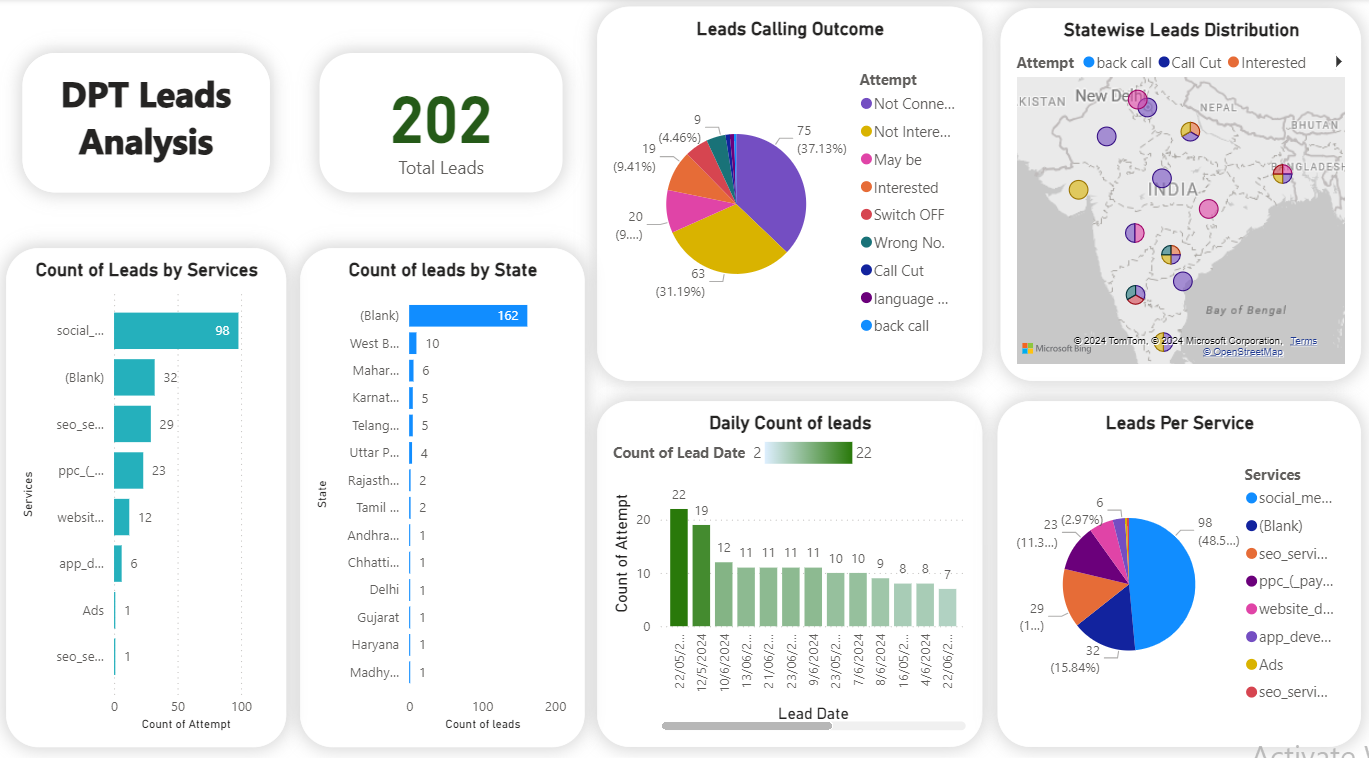

This screenshot's page, from the dashboard's own definition file:
{"tool":"powerbi","page":{"name":"Page 1","canvas":[1280,720],"ordinal":0},"visuals":[{"type":"pieChart","title":"Leads Calling Outcome","fields":{"Category":["Sheet1.Attempt"],"Y":["Sheet1.Count of Attempt average per Attempt"]},"box":[562,18,352,342],"z":0},{"type":"card","fields":{"Values":["CountNonNull(Sheet1.Name)"]},"box":[308,60.2,222,127.5],"z":1000},{"type":"clusteredColumnChart","title":"Daily Count of leads","fields":{"Category":["Sheet1.Lead Date"],"Y":["CountNonNull(Sheet1.Attempt)"]},"box":[562,378,352,316],"z":2000},{"type":"barChart","fields":{"Category":["Sheet1.State"],"Y":["CountNonNull(Sheet1.Attempt)"]},"box":[290,238,260,456],"z":3000},{"type":"textbox","box":[37.2,60.2,226.3,127.5],"z":4000},{"type":"clusteredBarChart","title":"Count of Leads by Services","fields":{"Category":["Sheet1.Services"],"Y":["CountNonNull(Sheet1.Attempt)"]},"box":[22,238,256,456],"z":5000},{"type":"map","title":"Statewise Leads Distribution","fields":{"Category":["Sheet1.State"],"Series":["Sheet1.Attempt"]},"box":[929.6,18.5,329.6,340.7],"z":6000},{"type":"pieChart","title":"Leads Per Service","fields":{"Category":["Sheet1.Services"],"Y":["CountNonNull(Sheet1.Attempt)"]},"box":[928,378,332,316],"z":7000}]}

Visuals, with their boxes in screenshot pixels (x1, y1, x2, y2), scaled from the page's 1280x720 canvas onto the 1369x758 screenshot:
"Leads Calling Outcome" pieChart: bbox=(601, 19, 978, 379)
card - CountNonNull(Sheet1.Name): bbox=(329, 63, 567, 198)
"Daily Count of leads" clusteredColumnChart: bbox=(601, 398, 978, 731)
barChart - Sheet1.State x CountNonNull(Sheet1.Attempt): bbox=(310, 251, 588, 731)
textbox: bbox=(40, 63, 282, 198)
"Count of Leads by Services" clusteredBarChart: bbox=(24, 251, 297, 731)
"Statewise Leads Distribution" map: bbox=(994, 19, 1347, 378)
"Leads Per Service" pieChart: bbox=(993, 398, 1348, 731)
